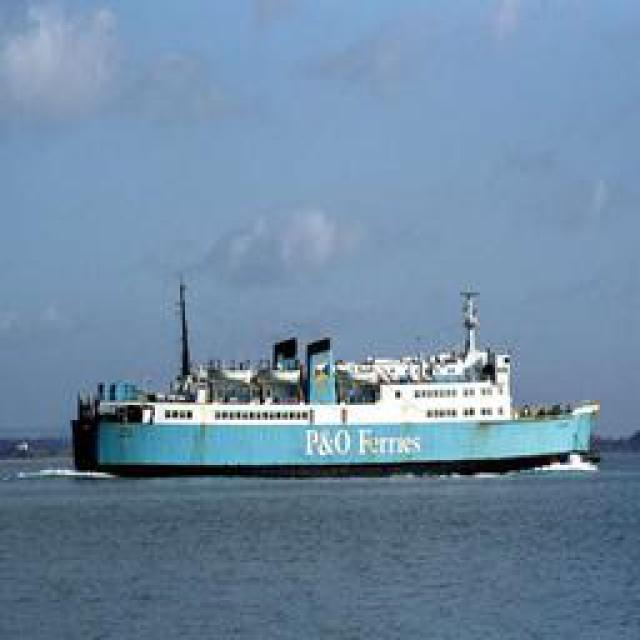Ship: (86, 282, 606, 475)
